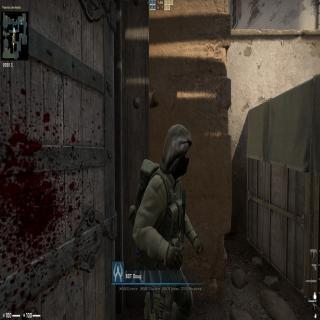CT-Head: (160, 122, 192, 181)
